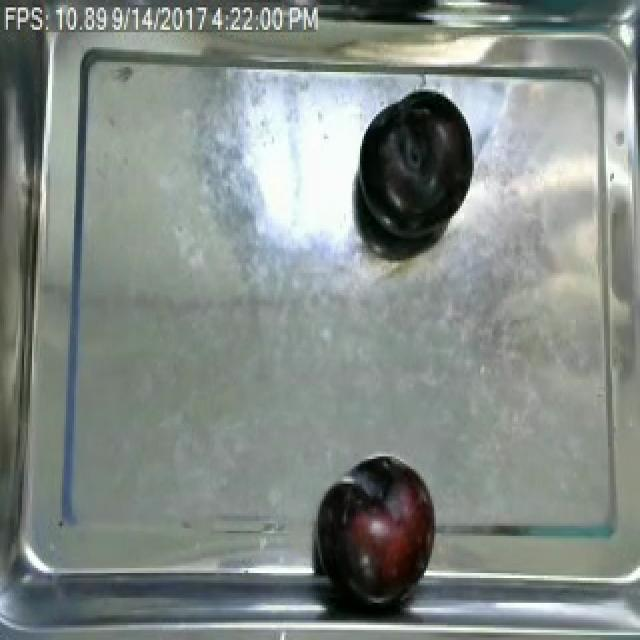Fruit: (306, 454, 442, 608), (350, 89, 478, 248)
